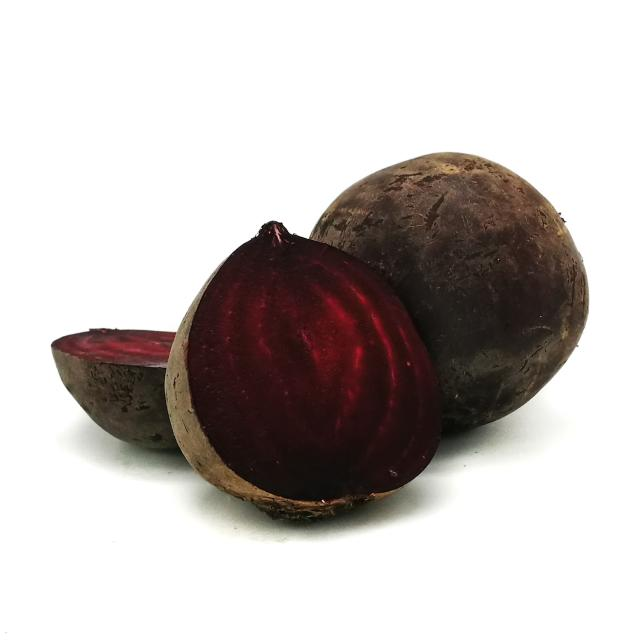Beetroot: (270, 133, 601, 455), (140, 206, 412, 537)
